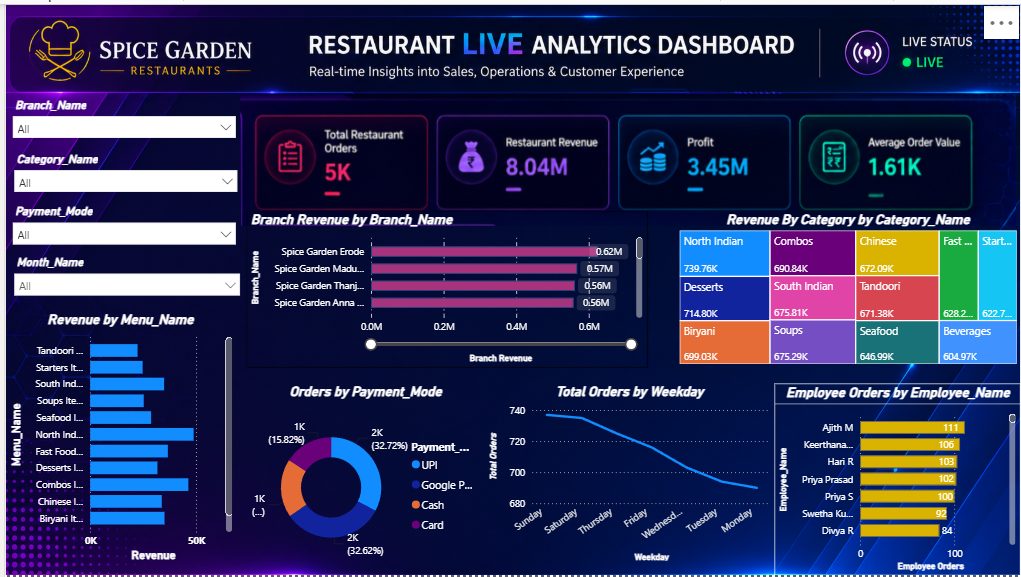

The page's visual inventory and layout, read from the dashboard file:
{"tool":"powerbi","page":{"name":"Page 3","canvas":[1280,720],"ordinal":0},"visuals":[{"type":"image","box":[0,0,1279.4,720],"z":0},{"type":"image","box":[291,113.4,988.4,166.3],"z":1000},{"type":"barChart","fields":{"Category":["Dim_Branch (2).Branch_Name"],"Y":["Dim_Branch (2).Branch Revenue"]},"box":[305,260,505,197.5],"z":2000},{"type":"treemap","fields":{"Group":["Dim_Category.Category_Name"],"Values":["Dim_Category.Revenue By Category"]},"box":[845,260,435,197.5],"z":3000},{"type":"donutChart","fields":{"Category":["Fact_Restaurant_Orders.Payment_Mode"],"Y":["Fact_Restaurant_Orders.Orders"]},"box":[304.3,478.1,300.5,241.9],"z":4000},{"type":"lineChart","fields":{"Category":["Dim_Date.Weekday"],"Y":["Dim_Date.Total Orders"]},"box":[604.7,478.1,364.7,228.7],"z":5000},{"type":"clusteredBarChart","fields":{"Category":["Dim_Employee.Employee_Name"],"Y":["Dim_Employee.Employee Orders"]},"box":[969.5,478.1,309.9,241.9],"z":6000},{"type":"slicer","fields":{"Values":["Dim_Branch (2).Branch_Name"]},"box":[0,113.4,300.5,83.2],"z":7000},{"type":"slicer","fields":{"Values":["Dim_Category.Category_Name"]},"box":[1.9,181.4,300.5,79.4],"z":8000},{"type":"slicer","fields":{"Values":["Fact_Restaurant_Orders.Payment_Mode"]},"box":[0,247.6,300.5,64.3],"z":9000},{"type":"slicer","fields":{"Values":["Dim_Date.Month_Name"]},"box":[1.9,311.8,304.3,58.6],"z":9001},{"type":"clusteredBarChart","fields":{"Category":["Dim_Menu.Menu_Name"],"Y":["Dim_Menu.Revenue"]},"box":[0,400.6,291,319.4],"z":9002},{"type":"actionButton","box":[869.3,73.7,100.2,39.7],"z":9003}]}

Visuals, with their boxes in screenshot pixels (x1, y1, x2, y2), scaled from the page's 1280x720 canvas onto the 1021x577 screenshot:
image: 0,0,1020,576
image: 232,91,1020,224
barChart - Dim_Branch (2).Branch_Name x Dim_Branch (2).Branch Revenue: 243,208,646,367
treemap - Dim_Category.Category_Name x Dim_Category.Revenue By Category: 674,208,1020,367
donutChart - Fact_Restaurant_Orders.Payment_Mode x Fact_Restaurant_Orders.Orders: 243,383,482,576
lineChart - Dim_Date.Weekday x Dim_Date.Total Orders: 482,383,773,566
clusteredBarChart - Dim_Employee.Employee_Name x Dim_Employee.Employee Orders: 773,383,1020,576
slicer - Dim_Branch (2).Branch_Name: 0,91,240,158
slicer - Dim_Category.Category_Name: 2,145,241,209
slicer - Fact_Restaurant_Orders.Payment_Mode: 0,198,240,250
slicer - Dim_Date.Month_Name: 2,250,244,297
clusteredBarChart - Dim_Menu.Menu_Name x Dim_Menu.Revenue: 0,321,232,576
actionButton: 693,59,773,91
